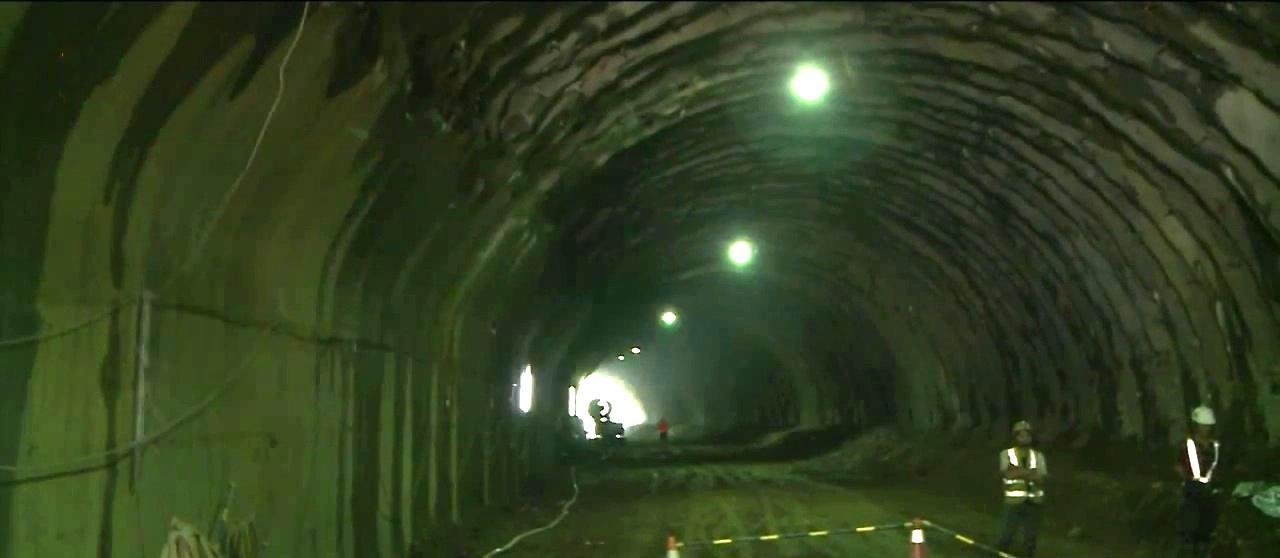helmet: (1190, 404, 1217, 438), (1012, 419, 1033, 447)
